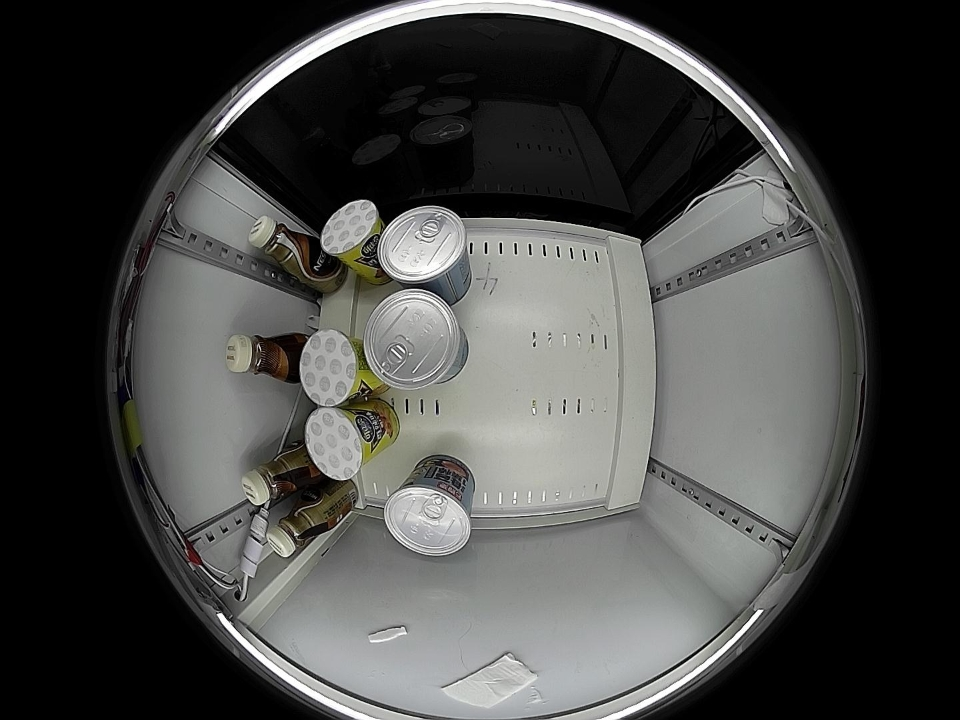haitai: (361, 288, 468, 392), (384, 469, 474, 557), (378, 205, 469, 290)
kafei: (241, 443, 313, 508), (248, 216, 317, 278), (225, 332, 304, 384), (268, 494, 331, 558)
kebike: (303, 405, 376, 481), (298, 329, 369, 407), (321, 200, 384, 268)
